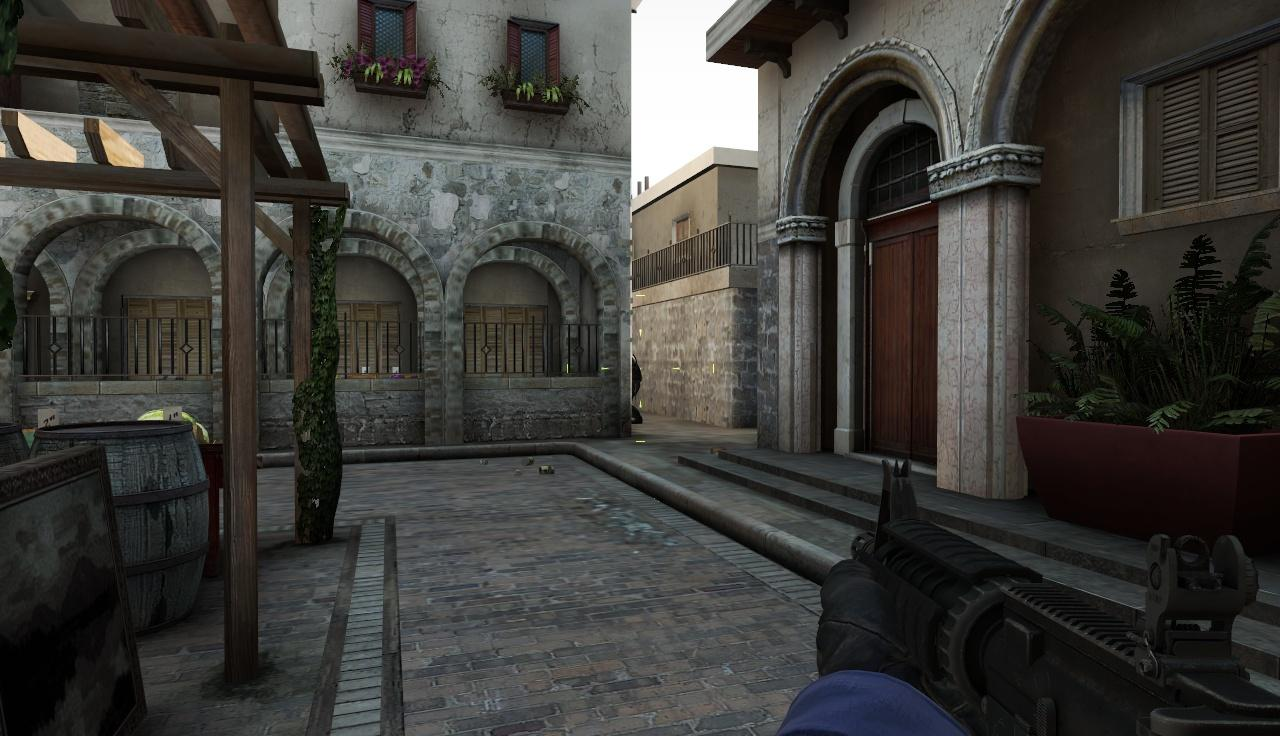ct: (632, 355, 643, 425)
rifle: (845, 454, 1280, 736)
